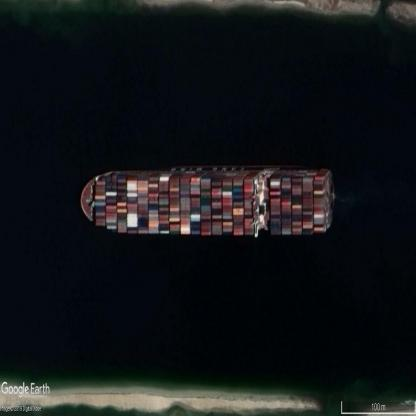ship: (81, 165, 334, 236)
